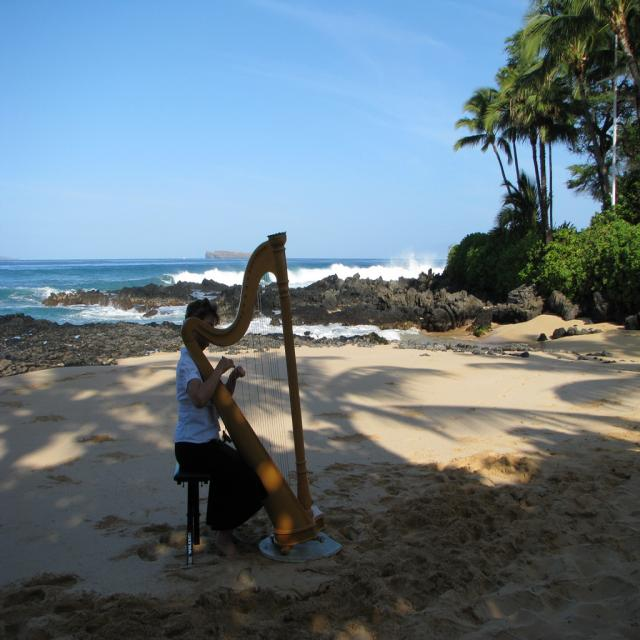harp: (180, 233, 328, 544)
